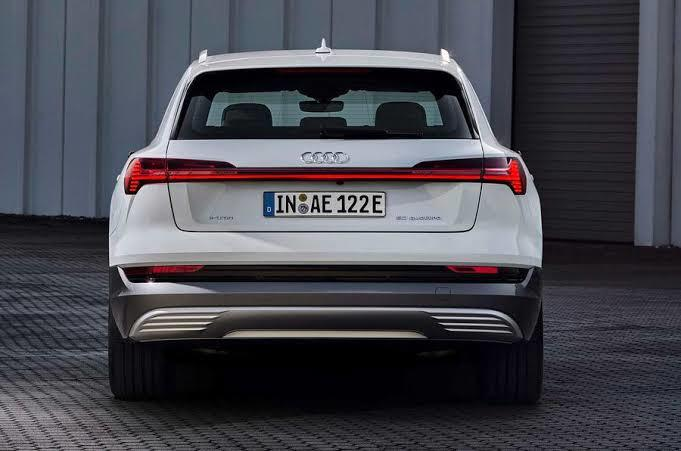audi: (103, 30, 550, 418)
